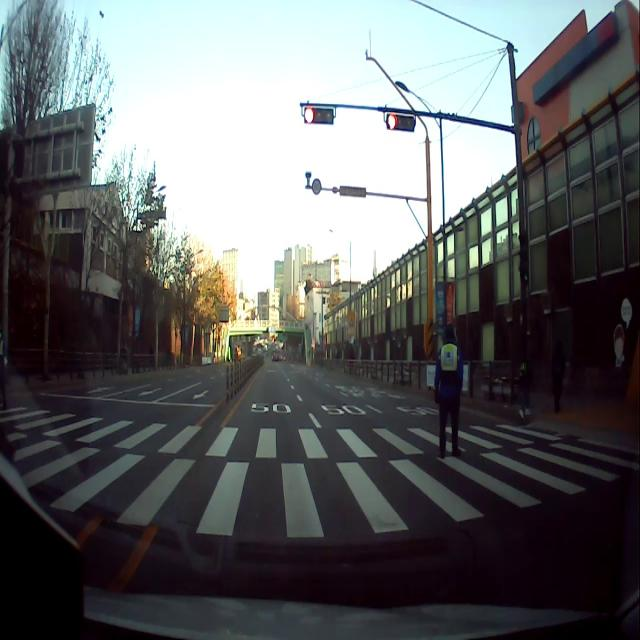Red Light: (304, 106, 314, 125), (386, 114, 397, 130)
